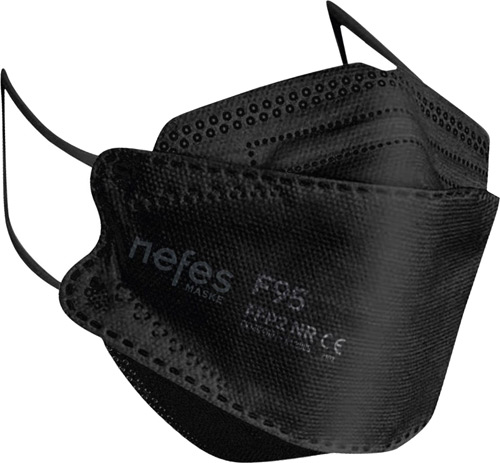maske: (42, 44, 498, 462)
